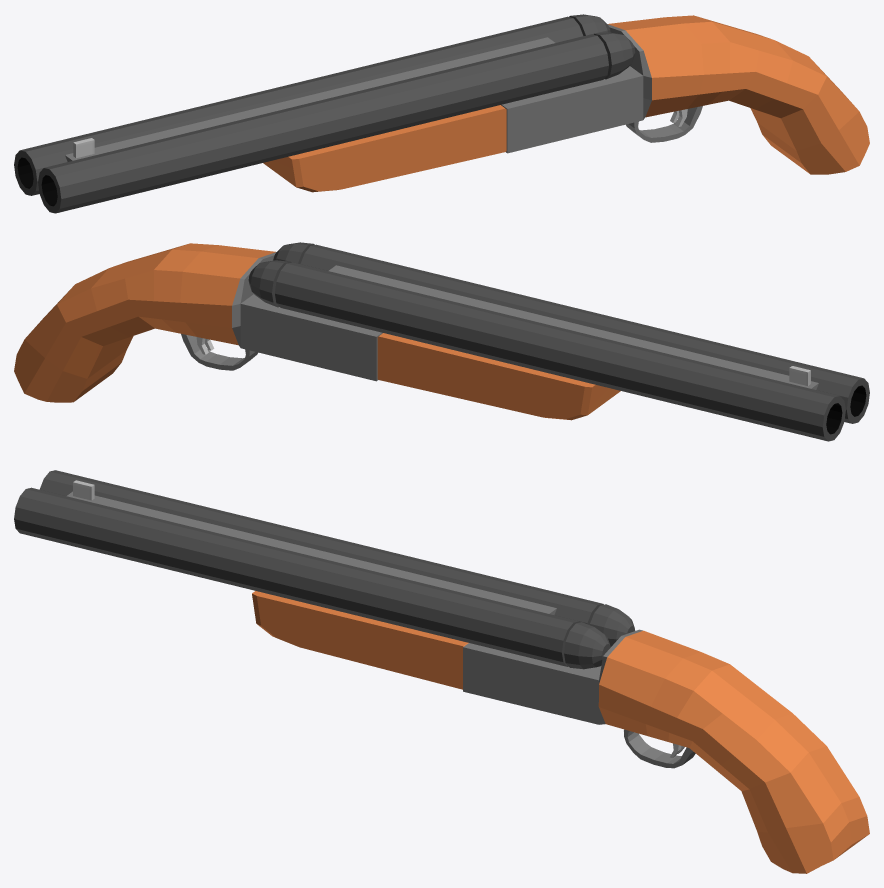
The model's file is DoubleBarrel.fbx.
3 renders of one model, top to bottom at view 1: azimuth 30°, elevation 25°; view 2: azimuth 150°, elevation 25°; view 3: azimuth 330°, elevation 25°, orthographic.
Parts seen in each view (by area): view 1: Cube.002, Cube, Cube.006, Cube.007, Cube.003; view 2: Cube.002, Cube, Cube.006, Cube.007, Cube.003; view 3: Cube.002, Cube, Cube.006, Cube.007, Cube.003.
Part boxes in pixels (x1,y1,x2,y2): Cube.002: (14, 16, 608, 213); Cube: (501, 15, 869, 174); Cube.006: (17, 105, 506, 206); Cube.007: (569, 14, 635, 79); Cube.003: (626, 106, 702, 142); Cube.002: (275, 244, 869, 441); Cube: (14, 243, 382, 402); Cube.006: (377, 333, 866, 434); Cube.007: (248, 242, 314, 307); Cube.003: (181, 334, 257, 370); Cube.002: (14, 470, 603, 666); Cube: (463, 629, 869, 873); Cube.006: (252, 591, 468, 689); Cube.007: (564, 604, 635, 669); Cube.003: (624, 729, 695, 768).
Size of the model in its own units: 1017 by 231 by 115.
